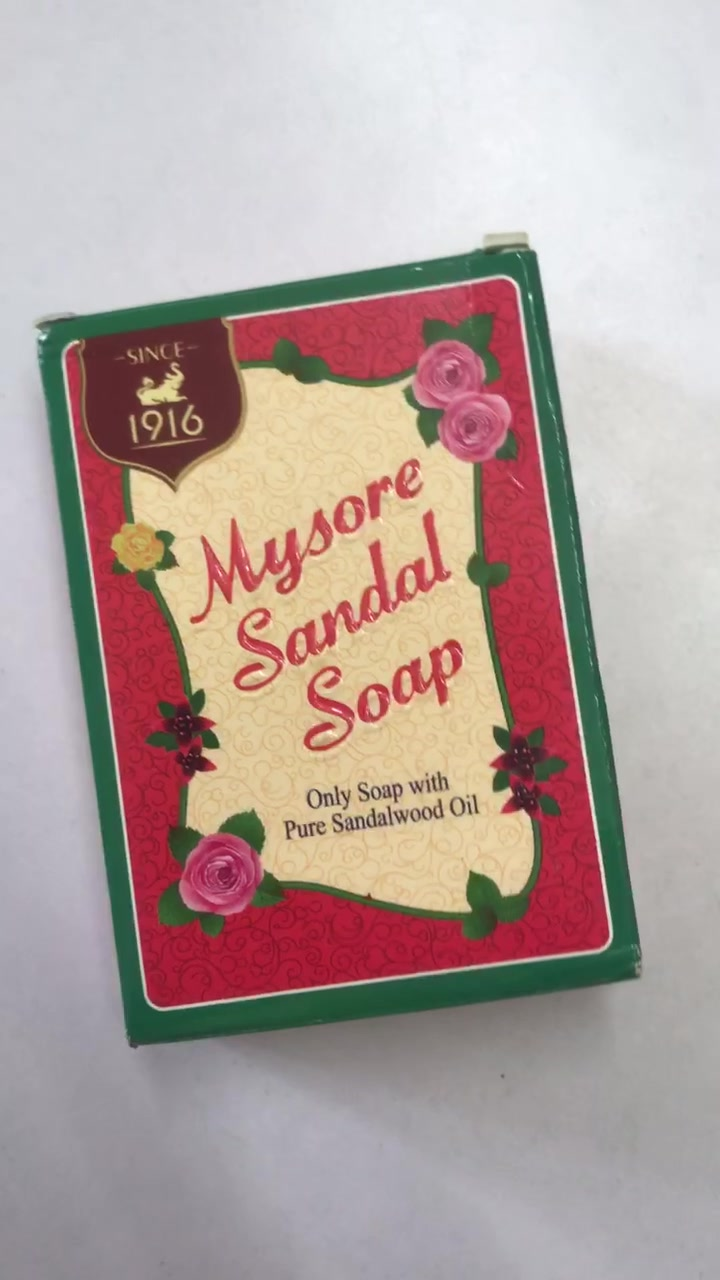mysore sandal soap: (48, 249, 639, 1052)
